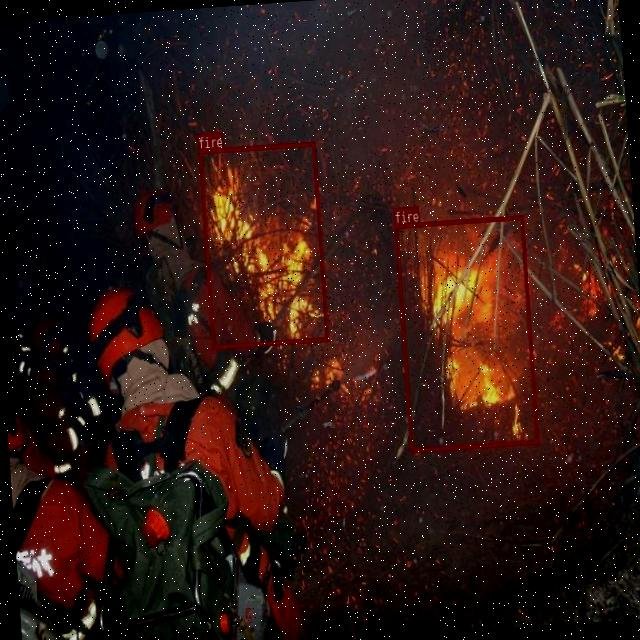fire: (394, 215, 539, 452), (198, 140, 328, 349)
